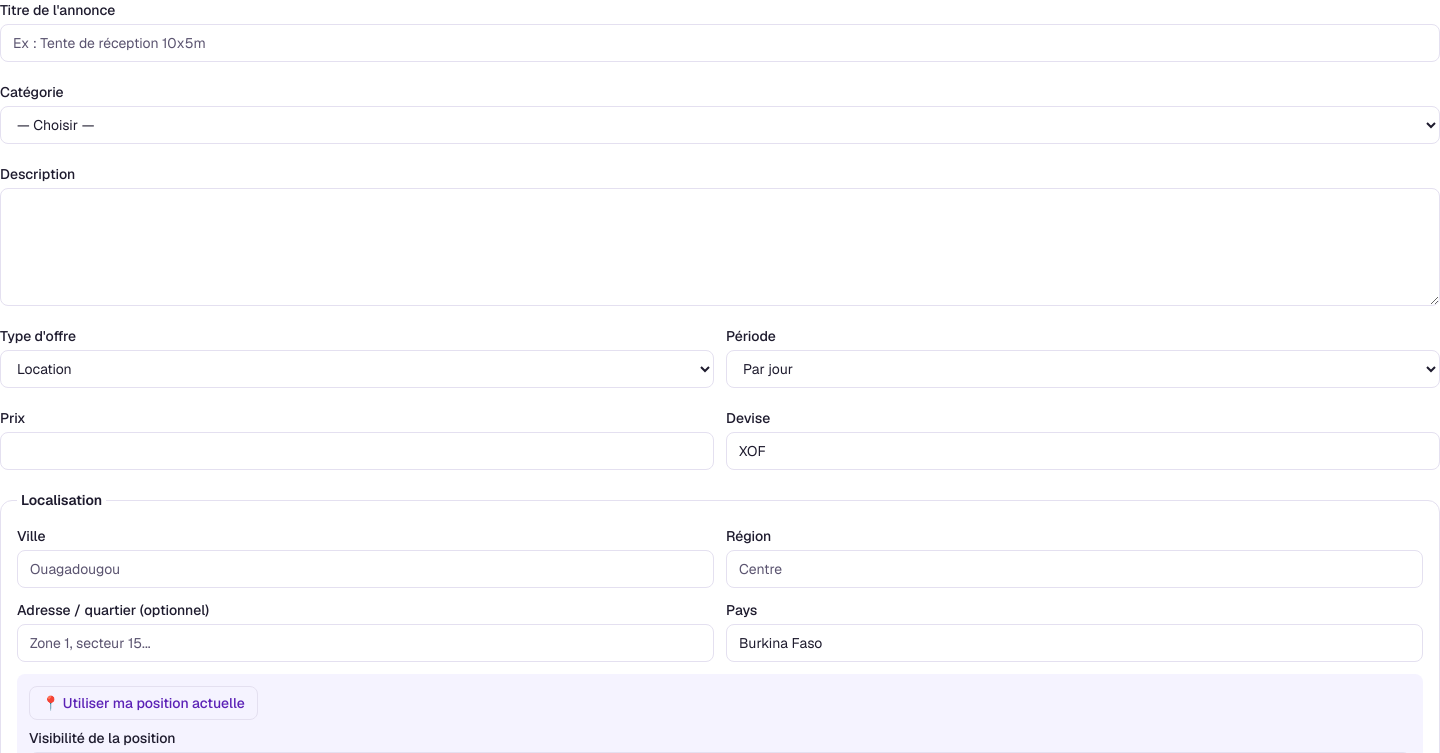
Test: ProductForm › shows the attributes of the selected category only
Check: the field labelled "marque" is not shown
Step 1. Select "Voitures" in the dropdown labelled "Catégorie" → (720, 125), box [0,106,1439,144]
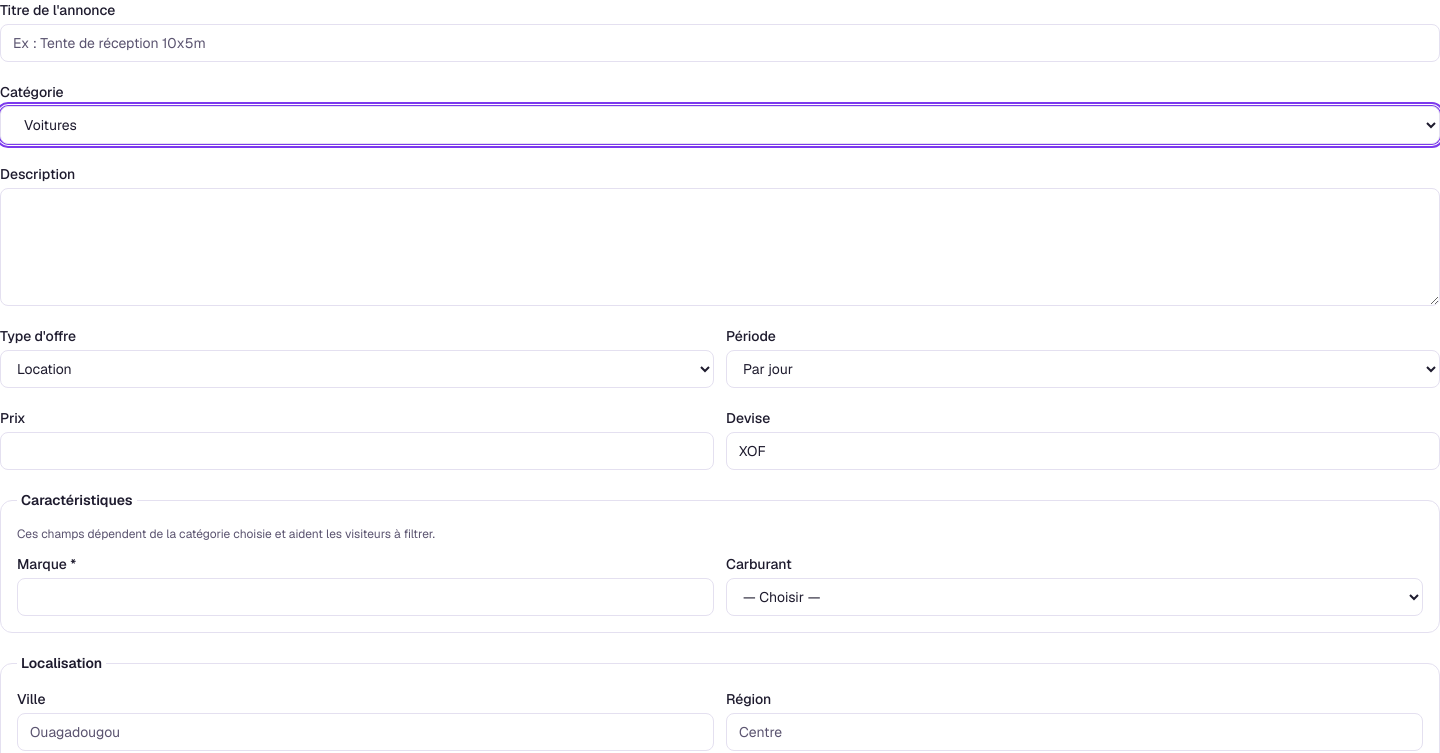
Check: the field labelled "Marque *" is shown, box [17,578,714,616]
Check: the dropdown labelled "Carburant" is shown, box [726,578,1423,616]
